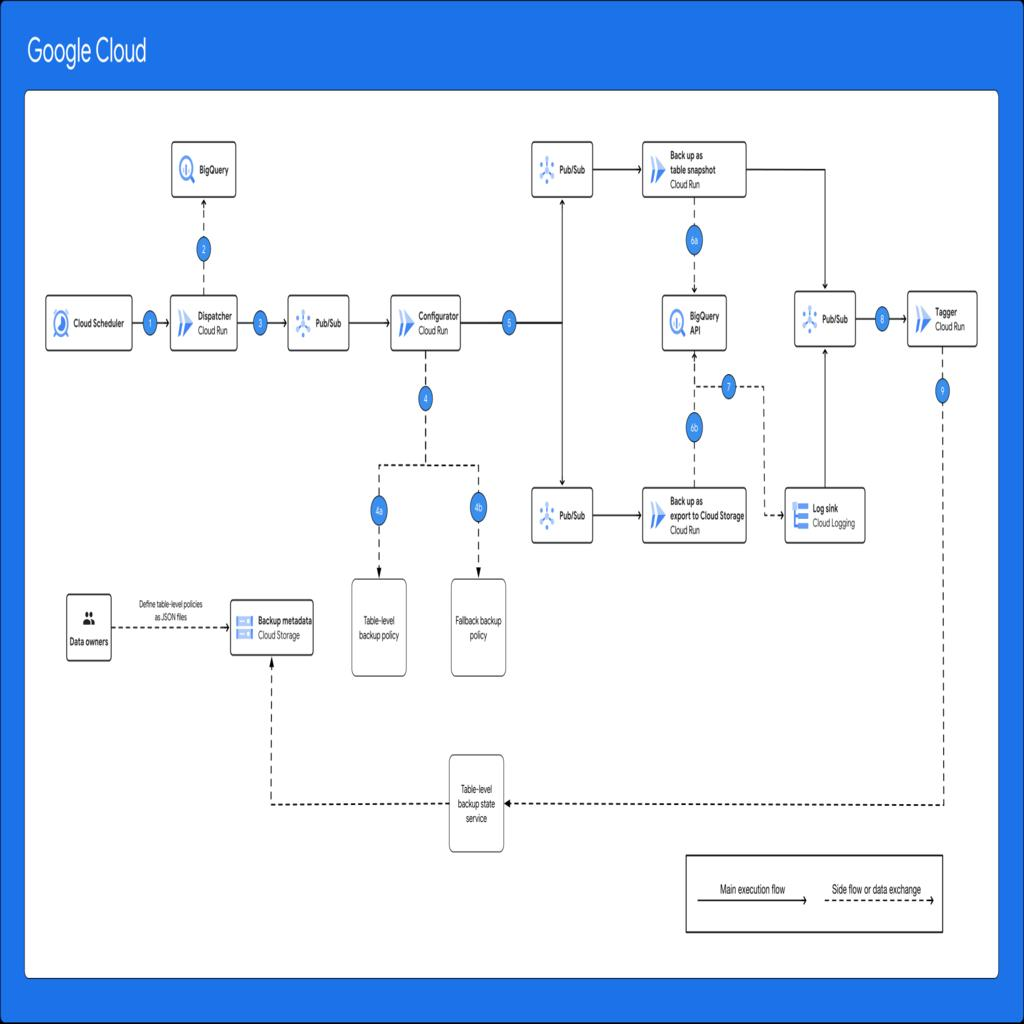actor: (66, 588, 112, 665)
api_gateway: (660, 291, 726, 354)
compute: (640, 138, 746, 200), (640, 482, 746, 544), (46, 291, 132, 354), (784, 482, 866, 544), (389, 291, 461, 354), (905, 291, 977, 354), (168, 291, 238, 354), (287, 291, 350, 354), (799, 291, 862, 354), (530, 138, 592, 200), (530, 482, 592, 544)
data_flow: (938, 353, 944, 804), (511, 802, 941, 806), (558, 200, 564, 446), (422, 354, 428, 580), (690, 354, 696, 482), (269, 658, 274, 800), (822, 172, 827, 310), (822, 354, 827, 482), (378, 464, 478, 470), (112, 624, 228, 629), (200, 201, 206, 291), (690, 201, 696, 291), (694, 384, 760, 390), (462, 320, 525, 325), (376, 499, 380, 576), (476, 499, 480, 576), (574, 166, 614, 172), (574, 510, 614, 516), (246, 320, 278, 325), (350, 320, 381, 325), (857, 320, 888, 325), (133, 320, 160, 325)
database_storage: (230, 595, 314, 658), (168, 138, 238, 200)
trust_boundary: (24, 68, 998, 954)
